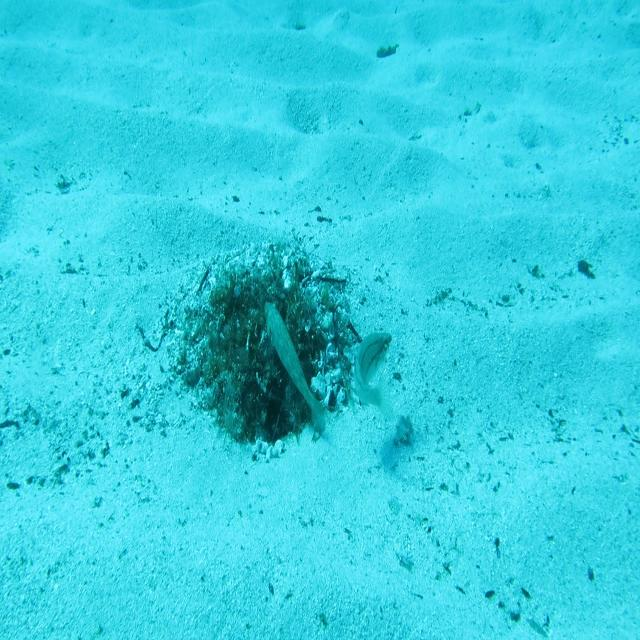FAN: (262, 300, 329, 441)
core_nest: (235, 286, 290, 324)
female: (351, 324, 395, 428)
nest: (158, 222, 372, 476)
vegetation: (374, 41, 400, 62)
